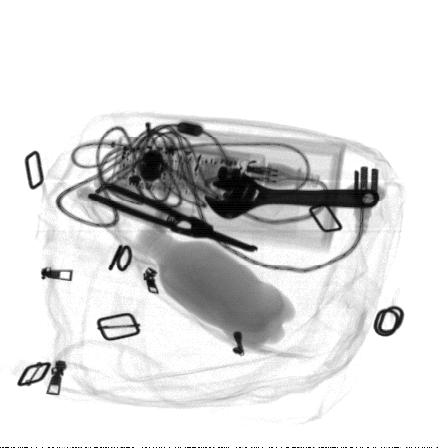Pliers: (84, 179, 262, 254)
Wrench: (201, 169, 381, 221)
